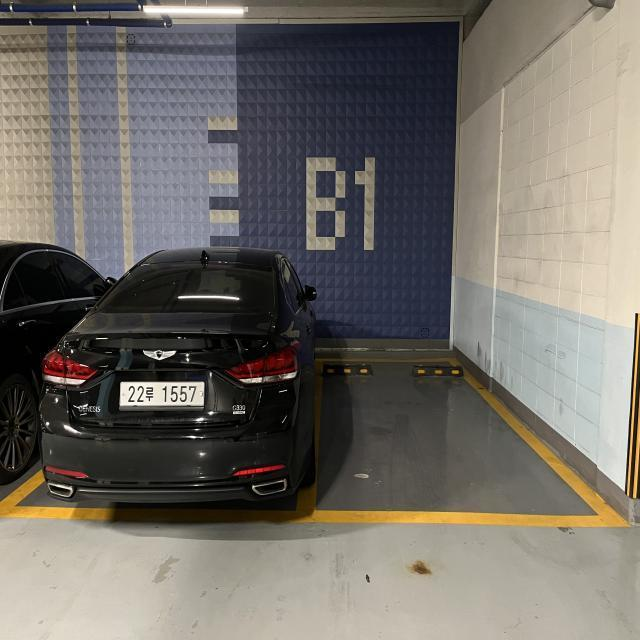Car: (18, 213, 313, 544)
Vacant: (308, 348, 620, 524)
